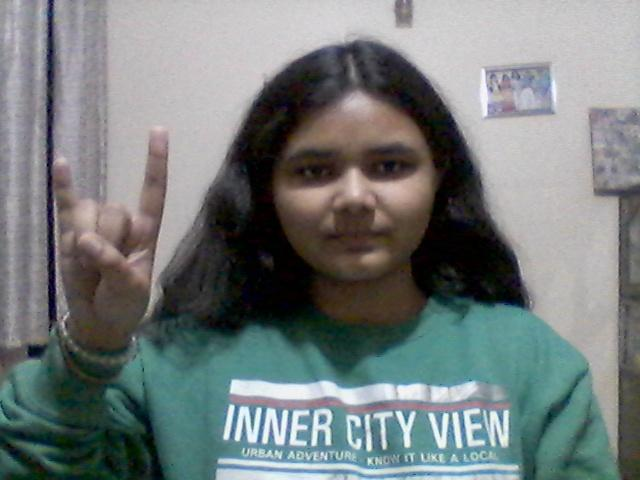ilove you: (40, 117, 176, 372)
